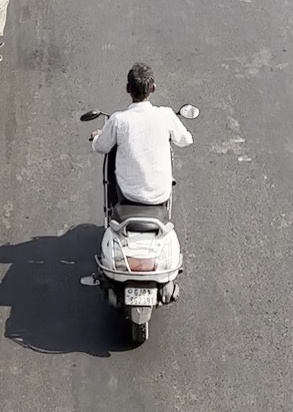BikeWithRider: (77, 60, 202, 344)
NoHelmet: (123, 62, 158, 105)
